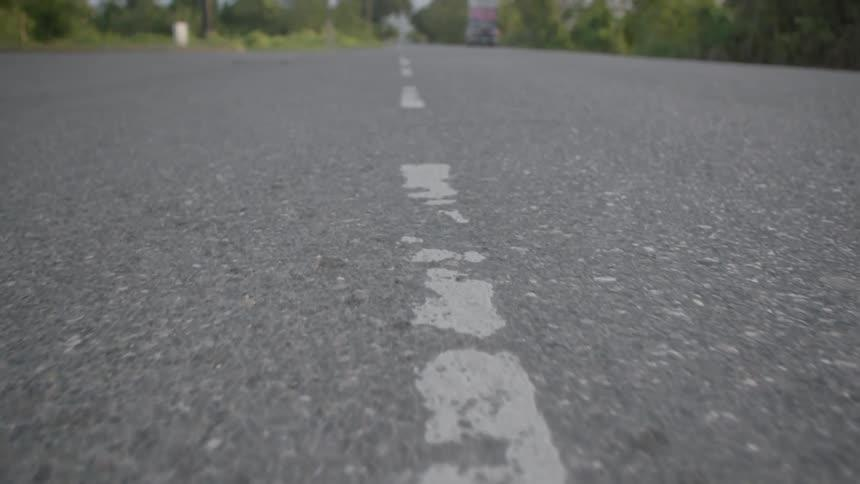faded_road_lines: (389, 40, 572, 483)
